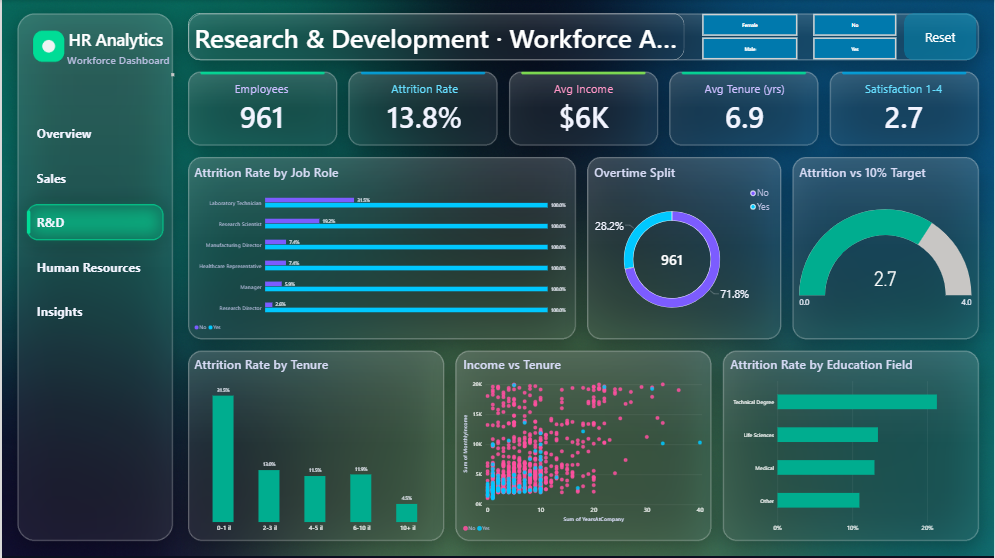

This screenshot's page, from the dashboard's own definition file:
{"tool":"powerbi","page":{"name":"R&D","canvas":[2560,1440],"ordinal":2},"visuals":[{"type":"actionButton","box":[70,535,353,76],"z":0},{"type":"actionButton","box":[70,303.3,353.3,76.7],"z":1000},{"type":"actionButton","box":[70,765,353,76],"z":2000},{"type":"actionButton","box":[70,420,353,76],"z":3000},{"type":"actionButton","box":[70,650,353,76],"z":4000},{"type":"textbox","title":"HR Analytics","box":[165,73.3,256.7,55],"z":5000},{"type":"textbox","title":"Workforce Dashboard","box":[166.7,136.7,276.7,60],"z":6000},{"type":"cardVisual","fields":{"Data":["HR.Page Title"]},"box":[479.1,34,1281.3,122],"z":7000},{"type":"slicer","fields":{"Values":["HR.Gender"]},"box":[1785.8,34,286.3,122],"z":8000},{"type":"slicer","fields":{"Values":["HR.OverTime"]},"box":[2072.1,34,255.1,122],"z":9000},{"type":"actionButton","box":[2327.2,34,187.1,122],"z":10000},{"type":"cardVisual","fields":{"Data":["HR.Total Employees"]},"box":[480,185,380,186.7],"z":11000},{"type":"cardVisual","fields":{"Data":["HR.Attrition Rate"]},"box":[900,186.7,380,186.7],"z":12000},{"type":"cardVisual","fields":{"Data":["HR.Avg Monthly Income"]},"box":[1310,186.7,380,186.7],"z":13000},{"type":"cardVisual","fields":{"Data":["HR.Avg Tenure"]},"box":[1726.7,186.7,380,186.7],"z":14000},{"type":"cardVisual","fields":{"Data":["HR.Avg Job Satisfaction"]},"box":[2136.7,186.7,380,186.7],"z":15000},{"type":"donutChart","title":"Overtime Split","fields":{"Category":["HR.OverTime"],"Y":["HR.Total Employees"]},"box":[1513.3,406.7,493.3,466.7],"z":16000},{"type":"gauge","title":"Attrition vs 10% Target","fields":{"Y":["HR.Avg Job Satisfaction"]},"box":[2040,406.7,476.7,466.7],"z":17000},{"type":"clusteredColumnChart","title":"Attrition Rate by Tenure","fields":{"Category":["HR.TenureBand"],"Y":["HR.Attrition Rate"]},"box":[480,903.3,660,490],"z":18000},{"type":"scatterChart","title":"Income vs Tenure","fields":{"Category":["HR.EmployeeNumber"],"Series":["HR.Attrition"],"X":["Sum(HR.YearsAtCompany)"],"Y":["Sum(HR.MonthlyIncome)"]},"box":[1173.3,903.3,656.7,490],"z":19000},{"type":"clusteredBarChart","title":"Attrition Rate by Education Field","fields":{"Category":["HR.EducationField"],"Y":["HR.Attrition Rate"]},"box":[1863.3,903.3,653.3,490],"z":20000},{"type":"clusteredBarChart","title":"Attrition Rate by Job Role","fields":{"Category":["HR.JobRole"],"Series":["HR.Attrition"],"Y":["HR.Attrition Rate"]},"box":[480.4,406.5,991.1,467],"z":21000}]}

Visuals, with their boxes in screenshot pixels (x1, y1, x2, y2), scaled from the page's 2560x1440 canvas onto the 995x558 screenshot:
actionButton: (x1=27, y1=207, x2=164, y2=237)
actionButton: (x1=27, y1=118, x2=165, y2=147)
actionButton: (x1=27, y1=296, x2=164, y2=326)
actionButton: (x1=27, y1=163, x2=164, y2=192)
actionButton: (x1=27, y1=252, x2=164, y2=281)
"HR Analytics" textbox: (x1=64, y1=28, x2=164, y2=50)
"Workforce Dashboard" textbox: (x1=65, y1=53, x2=172, y2=76)
cardVisual - HR.Page Title: (x1=186, y1=13, x2=684, y2=60)
slicer - HR.Gender: (x1=694, y1=13, x2=805, y2=60)
slicer - HR.OverTime: (x1=805, y1=13, x2=905, y2=60)
actionButton: (x1=905, y1=13, x2=977, y2=60)
cardVisual - HR.Total Employees: (x1=187, y1=72, x2=334, y2=144)
cardVisual - HR.Attrition Rate: (x1=350, y1=72, x2=498, y2=145)
cardVisual - HR.Avg Monthly Income: (x1=509, y1=72, x2=657, y2=145)
cardVisual - HR.Avg Tenure: (x1=671, y1=72, x2=819, y2=145)
cardVisual - HR.Avg Job Satisfaction: (x1=830, y1=72, x2=978, y2=145)
"Overtime Split" donutChart: (x1=588, y1=158, x2=780, y2=338)
"Attrition vs 10% Target" gauge: (x1=793, y1=158, x2=978, y2=338)
"Attrition Rate by Tenure" clusteredColumnChart: (x1=187, y1=350, x2=443, y2=540)
"Income vs Tenure" scatterChart: (x1=456, y1=350, x2=711, y2=540)
"Attrition Rate by Education Field" clusteredBarChart: (x1=724, y1=350, x2=978, y2=540)
"Attrition Rate by Job Role" clusteredBarChart: (x1=187, y1=158, x2=572, y2=338)
